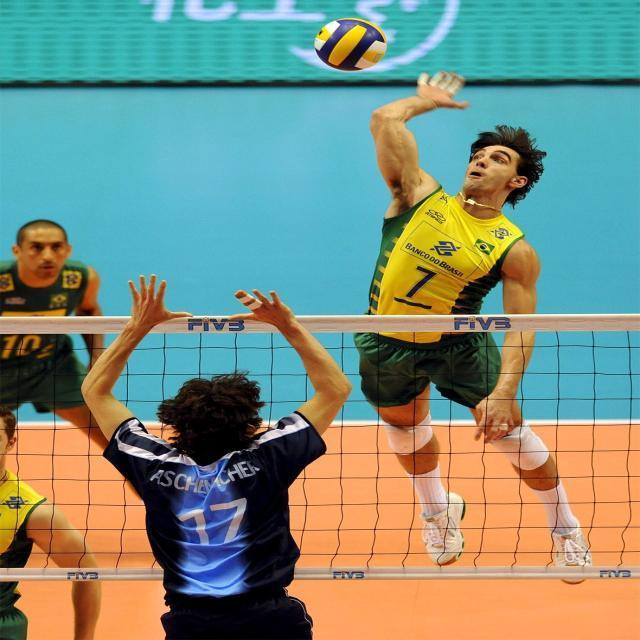volleyball: (314, 17, 386, 72)
